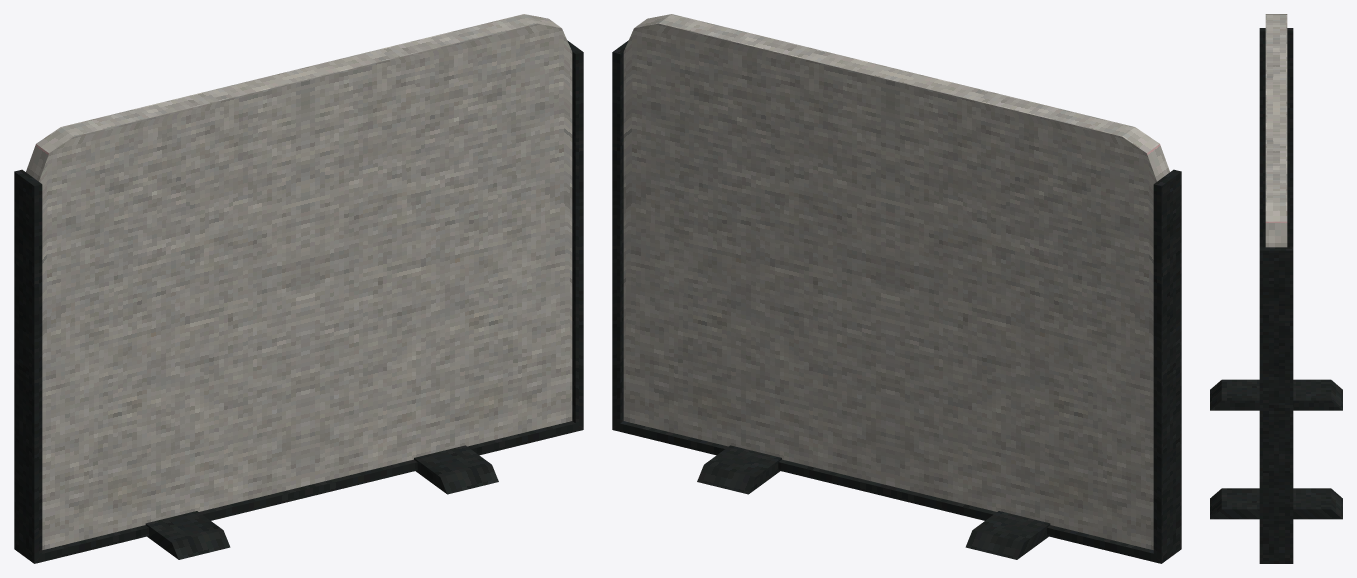
The model's file is divider_black_low_half.glb.
3 renders of one model, left to right at view 1: azimuth 30°, elevation 25°; view 2: azimuth 150°, elevation 25°; view 3: azimuth 270°, elevation 25°, orthographic. The views are drawn at different scales.
Parts seen in each view (by area): view 1: divider_black_low_half; view 2: divider_black_low_half; view 3: divider_black_low_half.
Part boxes in pixels (<box>): divider_black_low_half: <box>14,14,583,563</box>; divider_black_low_half: <box>612,14,1181,563</box>; divider_black_low_half: <box>1210,14,1342,563</box>.
Size of the model in its own units: 2.07 by 1.5 by 0.523.
Materials: 1 (1 with a texture image).
